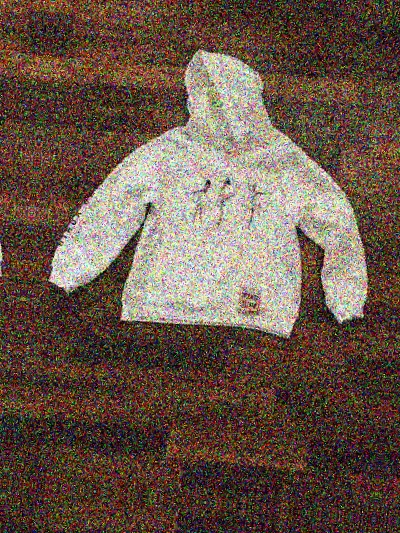Hoodie: (19, 22, 400, 369), (0, 0, 50, 333), (399, 60, 400, 407)
